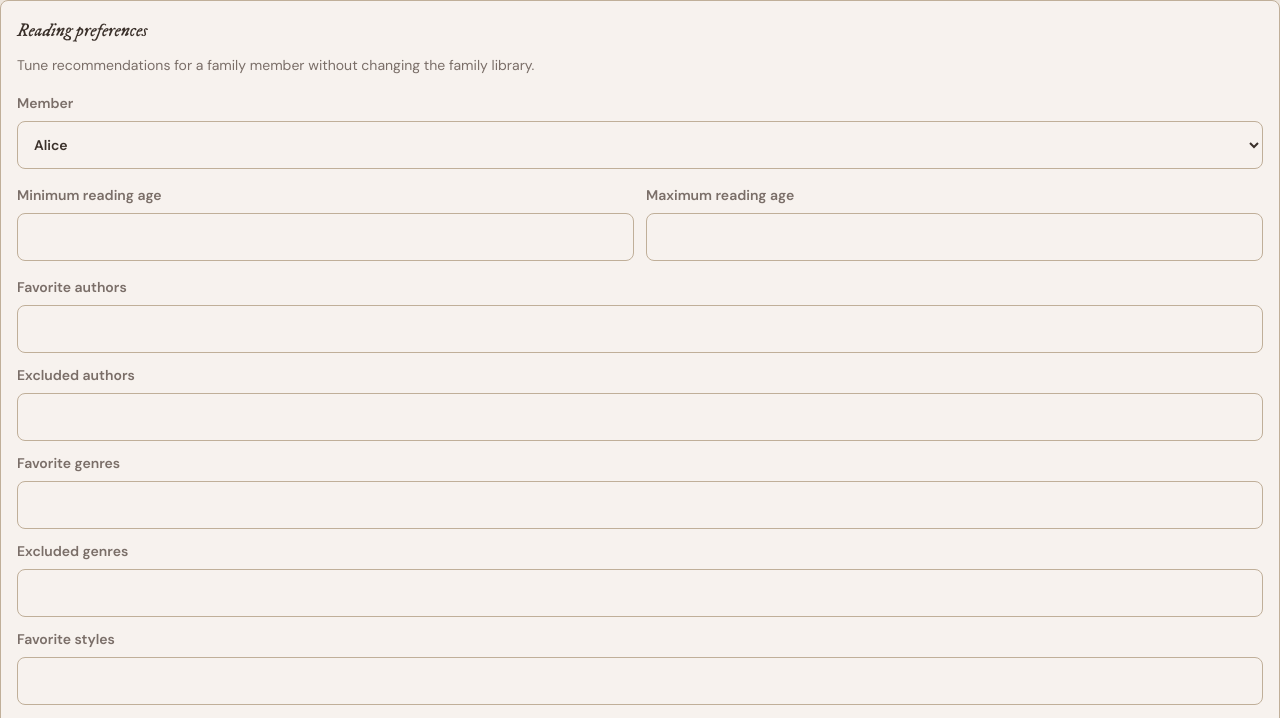
RecommendationProfileSection › shows a read-only state for a forbidden profile without rendering private fields
The width and height of the screenshot is (1280, 718).
Select "Mia" in the dropdown labelled "Member" at (640, 145), box [17,121,1263,169]
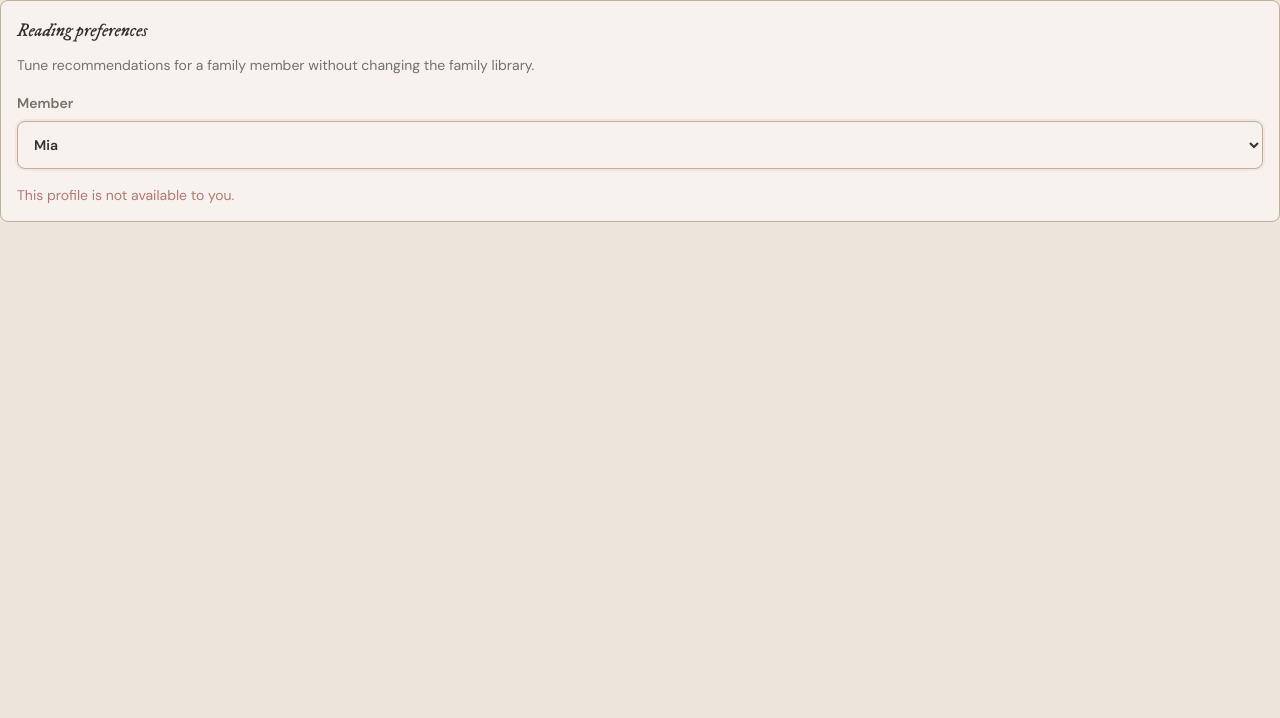
Check: the message shows "not available", box [17,186,234,204]
